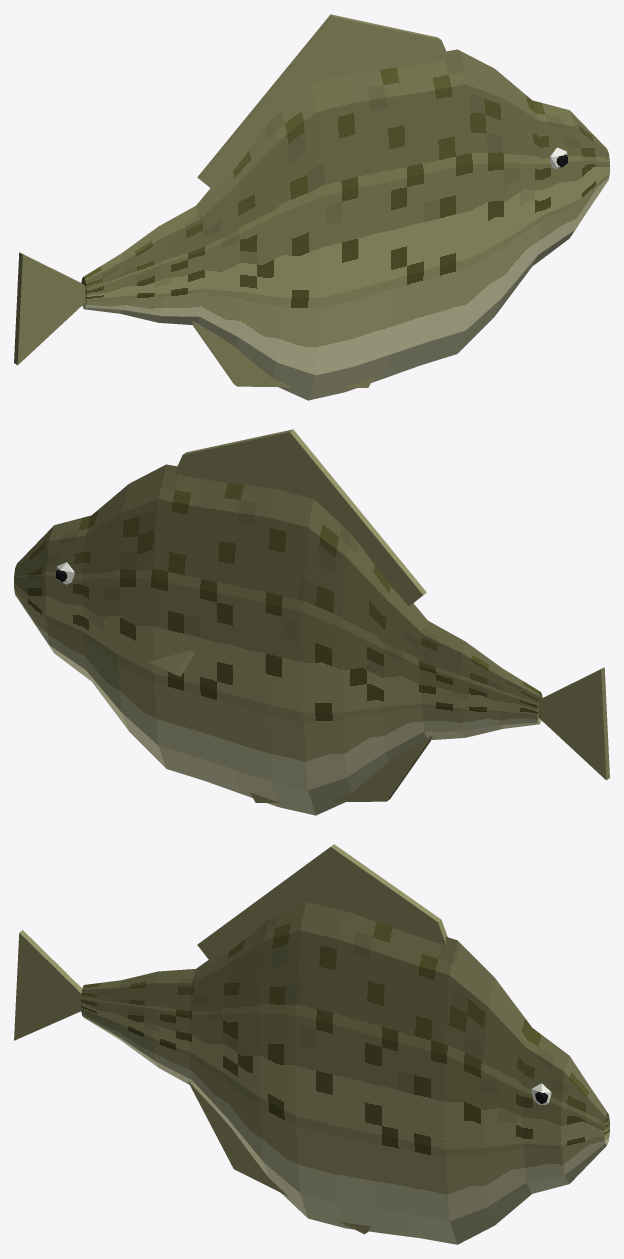
File: spinefoot.glb
The picture shows the model from 3 angles, top to bottom: view 1: azimuth 30°, elevation 25°; view 2: azimuth 150°, elevation 25°; view 3: azimuth 330°, elevation 25°; orthographic projection.
Visible parts, largest first — view 1: fish_spinefoot; view 2: fish_spinefoot; view 3: fish_spinefoot.
Boxes of the visible parts, x1=… form: fish_spinefoot: x1=14, y1=14, x2=609, y2=400; fish_spinefoot: x1=14, y1=429, x2=609, y2=815; fish_spinefoot: x1=14, y1=844, x2=609, y2=1244.
Size of the model in its own units: 1.13 by 0.6934 by 0.1177.
4 materials, 1 textured.
